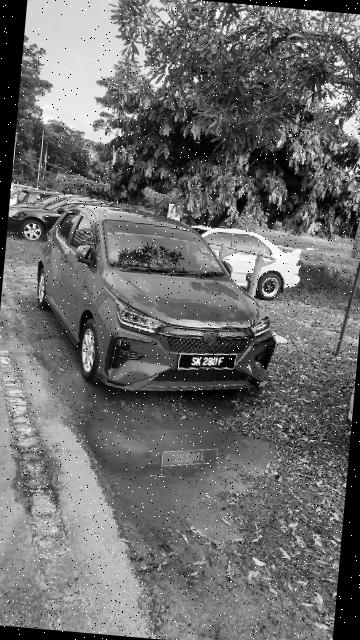License_Plate: (178, 348, 243, 374)
car: (29, 196, 291, 404)
